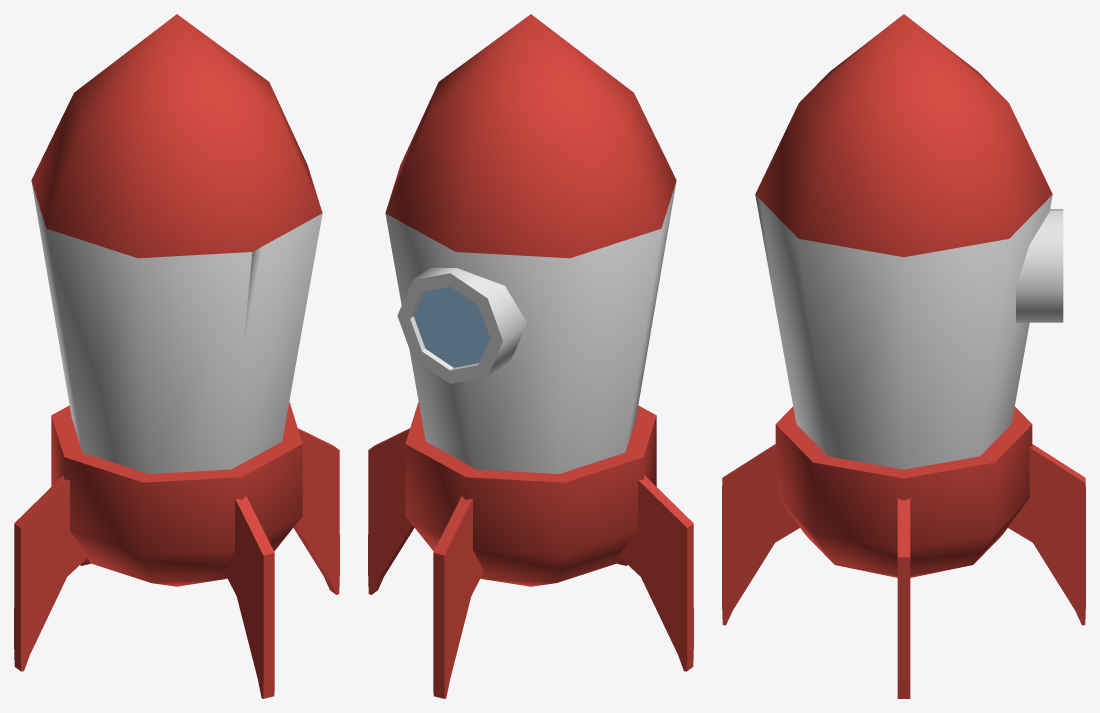
Rendered from 51_prop_rocket.FBX.
3 views of the same model, side by side, from view 1: azimuth 30°, elevation 25°; view 2: azimuth 150°, elevation 25°; view 3: azimuth 270°, elevation 25° (orthographic).
Visible parts, largest first — view 1: prop_rocket; view 2: prop_rocket; view 3: prop_rocket.
Boxes of the visible parts, left/top/right/bottom form: prop_rocket: left=14, top=14, right=339, bottom=698; prop_rocket: left=368, top=14, right=693, bottom=698; prop_rocket: left=722, top=14, right=1085, bottom=698.
Bounding box in the file's own units: 11.7 × 21.59 × 11.7.
